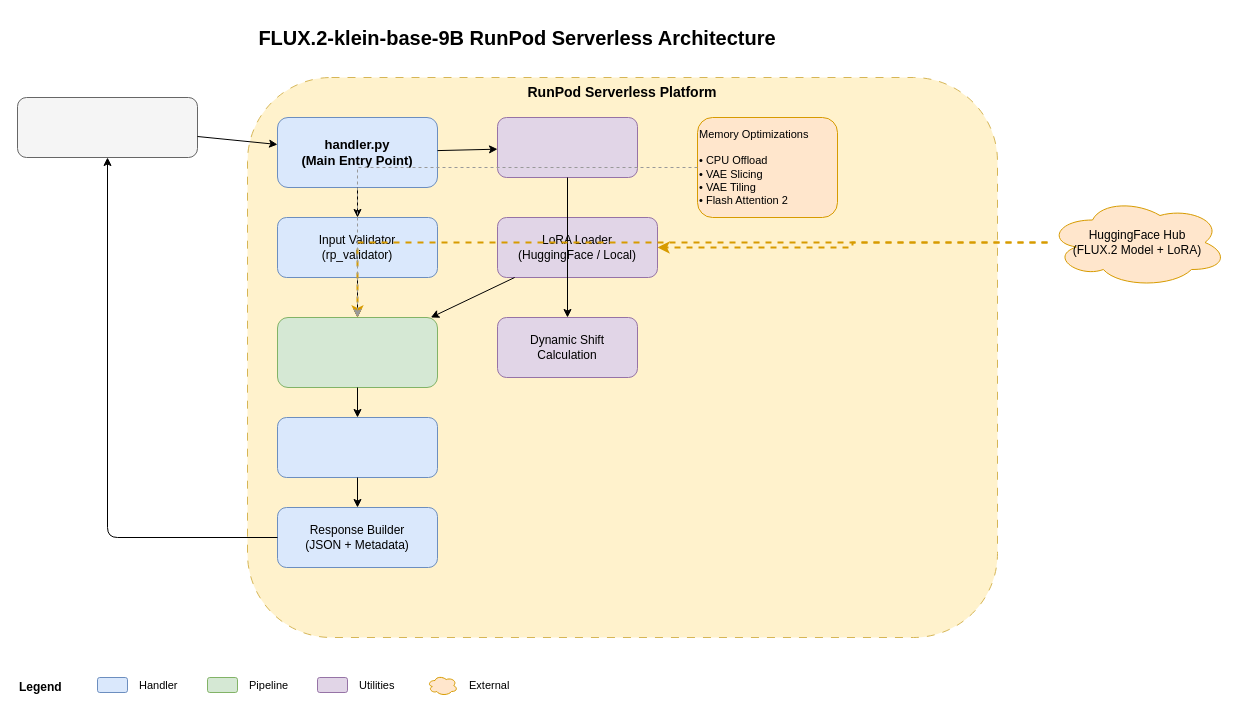
Some shapes in this 1245 by 714 pixel diagram are drawn without their labels. Here are the shapes that lost their labels. From the top down, the centre of each, then its label:
At (x=107, y=127): "Client / API User".
At (x=567, y=147): "Presets System (5 optimized presets)".
At (x=357, y=352): "FluxPipeline (FLUX.2-klein-9B)".
At (x=357, y=447): "Base64 Encoder (PNG/JPEG/WebP)".
